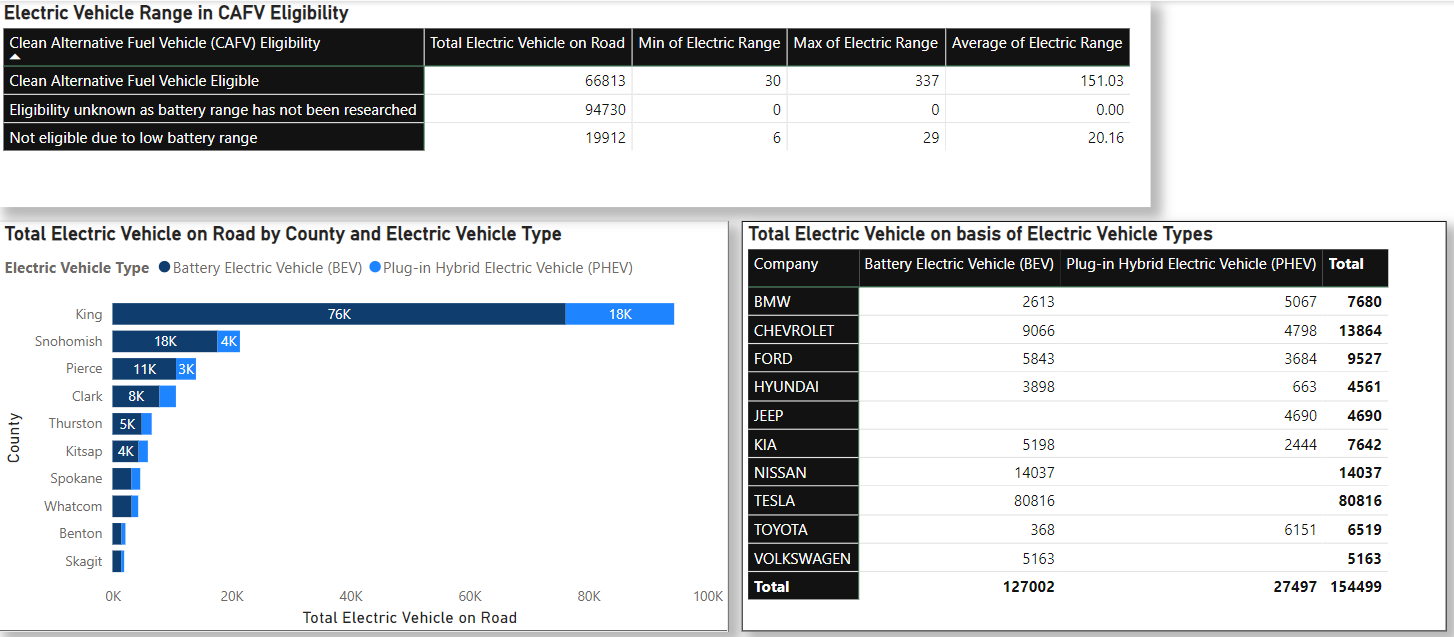

This screenshot's page, from the dashboard's own definition file:
{"tool":"powerbi","page":{"name":"Details Describes Vehicle Types","canvas":[1280,720],"ordinal":1},"visuals":[{"type":"barChart","fields":{"Y":["Electric_Vehicle_Population_Data.Total Electric Vehicle on Road"],"Category":["Electric_Vehicle_Population_Data.County Hierarchy.County"],"Series":["Electric_Vehicle_Population_Data.Electric Vehicle Type"]},"box":[0,193.4,640.5,360],"z":0},{"type":"pivotTable","title":"Electric Vehicle Range in CAFV Eligibility","fields":{"Rows":["Electric_Vehicle_Population_Data.Clean Alternative Fuel Vehicle (CAFV) Eligibility"],"Values":["Electric_Vehicle_Population_Data.Total Electric Vehicle on Road","Min(Electric_Vehicle_Population_Data.Electric Range)","Max(Electric_Vehicle_Population_Data.Electric Range)1","Avg(Electric_Vehicle_Population_Data.Electric Range)2"]},"box":[0,0,1011.5,180.5],"z":1000},{"type":"pivotTable","title":"Total Electric Vehicle on basis of Electric Vehicle Types","fields":{"Rows":["Electric_Vehicle_Population_Data.Company"],"Columns":["Electric_Vehicle_Population_Data.Electric Vehicle Type"],"Values":["Electric_Vehicle_Population_Data.Total Electric Vehicle on Road"]},"box":[652,193.4,618.7,360],"z":4000}]}

Visuals, with their boxes on the page's 1280x720 design canvas (x1, y1, x2, y2). These are canvas units, not pixel positions in the 1454x637 screenshot, which may show the page scaled, cropped or inside an application window:
barChart - Electric_Vehicle_Population_Data.Total Electric Vehicle on Road x Electric_Vehicle_Population_Data.County Hierarchy.County: region(0, 193, 640, 553)
"Electric Vehicle Range in CAFV Eligibility" pivotTable: region(0, 0, 1012, 180)
"Total Electric Vehicle on basis of Electric Vehicle Types" pivotTable: region(652, 193, 1271, 553)
